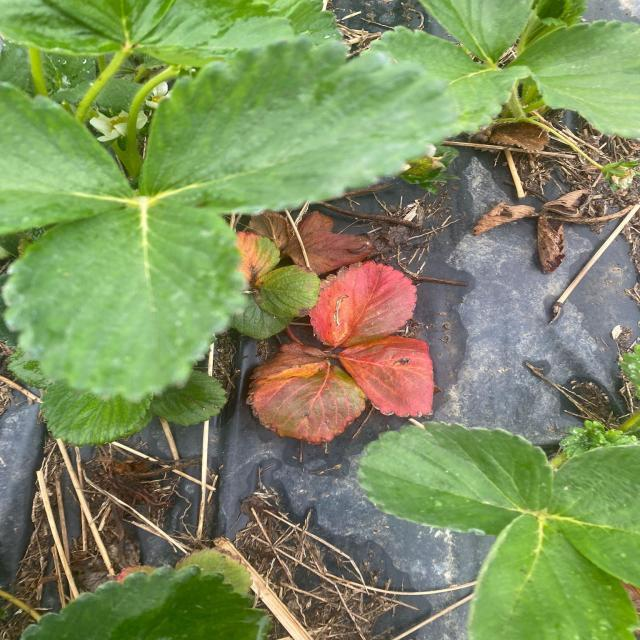flower: (86, 105, 150, 144)
